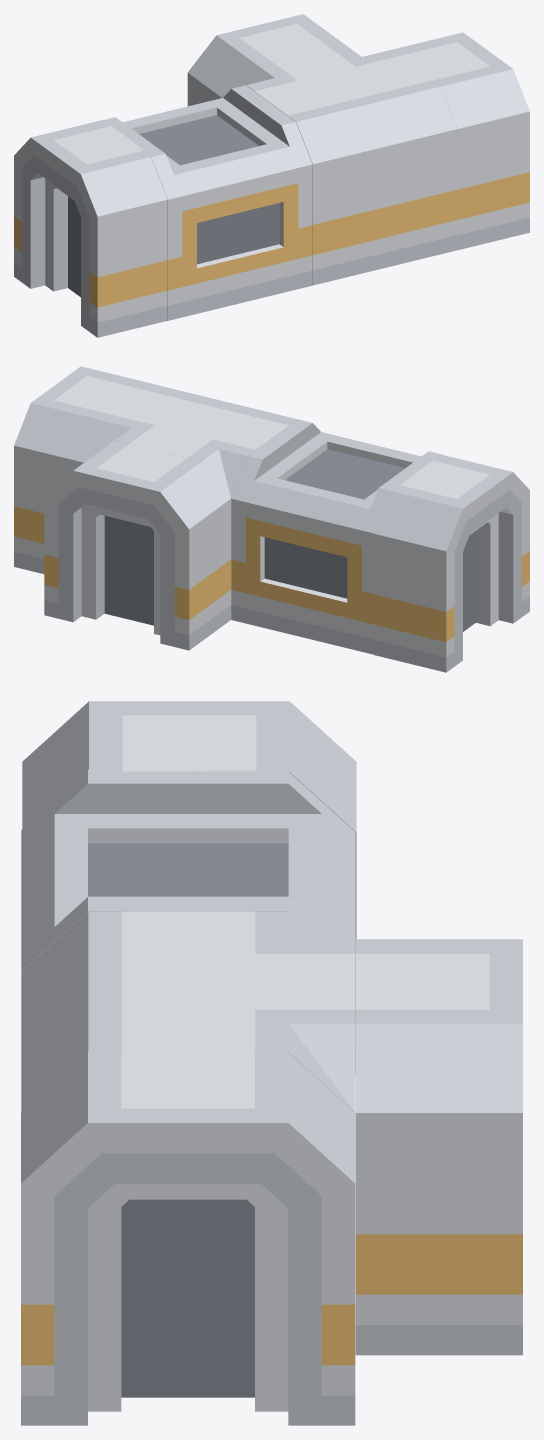
File: building2.glb
3 renders of one model, top to bottom at view 1: azimuth 30°, elevation 25°; view 2: azimuth 150°, elevation 25°; view 3: azimuth 270°, elevation 25°, orthographic. The views are drawn at different scales.
Visible parts, largest first — view 1: corridor_end.004; view 2: corridor_end.004; view 3: corridor_end.004.
Part boxes in pixels (x1=…): corridor_end.004: x1=14, y1=14, x2=529, y2=337; corridor_end.004: x1=14, y1=366, x2=529, y2=672; corridor_end.004: x1=21, y1=701, x2=522, y2=1425.
Size of the model in its own units: 16.36 by 5.48 by 8.23.
